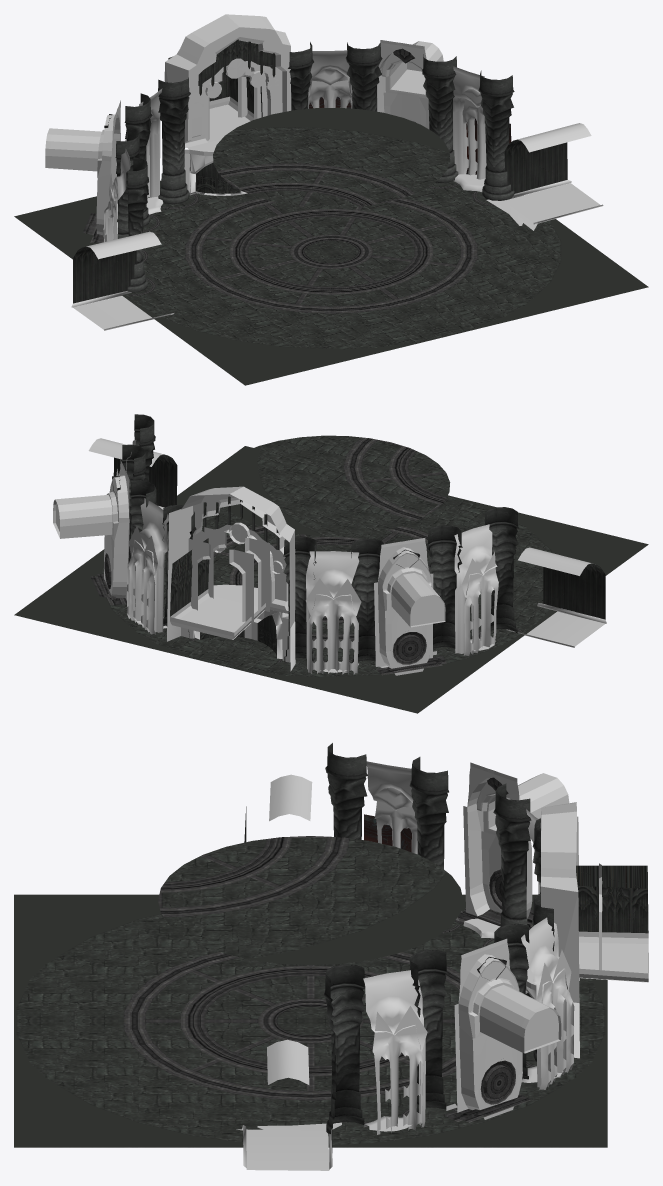
File: DarkeMobile.FBX
3 views of the same model, one above another, from view 1: azimuth 30°, elevation 25°; view 2: azimuth 150°, elevation 25°; view 3: azimuth 270°, elevation 25° (orthographic). The views are drawn at different scales.
Parts seen in each view (by area): view 1: Object009, Door_007, Cylinder001, Door_006, Object100, tongdao_04, tongdao_005, taizi001, Object102, Object106; view 2: Object009, Door_006, Cylinder001, Object100, Door_007, tongdao_04, tongdao_005, taizi001, Object102, Object101; view 3: Object009, Cylinder001, Door_007, Door_006, tongdao_005, Object100, tongdao_04, Object101, Object102.
Part boxes in pixels (x1,y1,x2,y2): Object009: [14, 180, 648, 385]; Door_007: [288, 42, 603, 230]; Cylinder001: [213, 107, 450, 207]; Door_006: [71, 77, 190, 330]; Object100: [164, 14, 291, 147]; tongdao_04: [45, 100, 120, 243]; tongdao_005: [377, 40, 443, 129]; taizi001: [184, 147, 247, 195]; Object102: [209, 104, 250, 132]; Object106: [229, 58, 279, 90]; Object009: [14, 446, 648, 713]; Door_006: [283, 507, 606, 674]; Cylinder001: [213, 435, 450, 535]; Object100: [167, 486, 295, 641]; Door_007: [88, 414, 196, 637]; tongdao_04: [374, 538, 445, 675]; tongdao_005: [53, 461, 129, 605]; taizi001: [251, 588, 295, 671]; Object102: [171, 586, 254, 626]; Object101: [209, 589, 264, 639]; Object009: [14, 894, 607, 1147]; Cylinder001: [158, 836, 463, 964]; Door_007: [236, 893, 574, 1170]; Door_006: [244, 743, 540, 926]; tongdao_005: [454, 938, 561, 1122]; Object100: [525, 802, 648, 1058]; tongdao_04: [463, 762, 569, 938]; Object101: [527, 942, 648, 962]; Object102: [527, 960, 648, 982].
Bounding box in the file's own units: 32.94 × 10.9 × 28.29.
